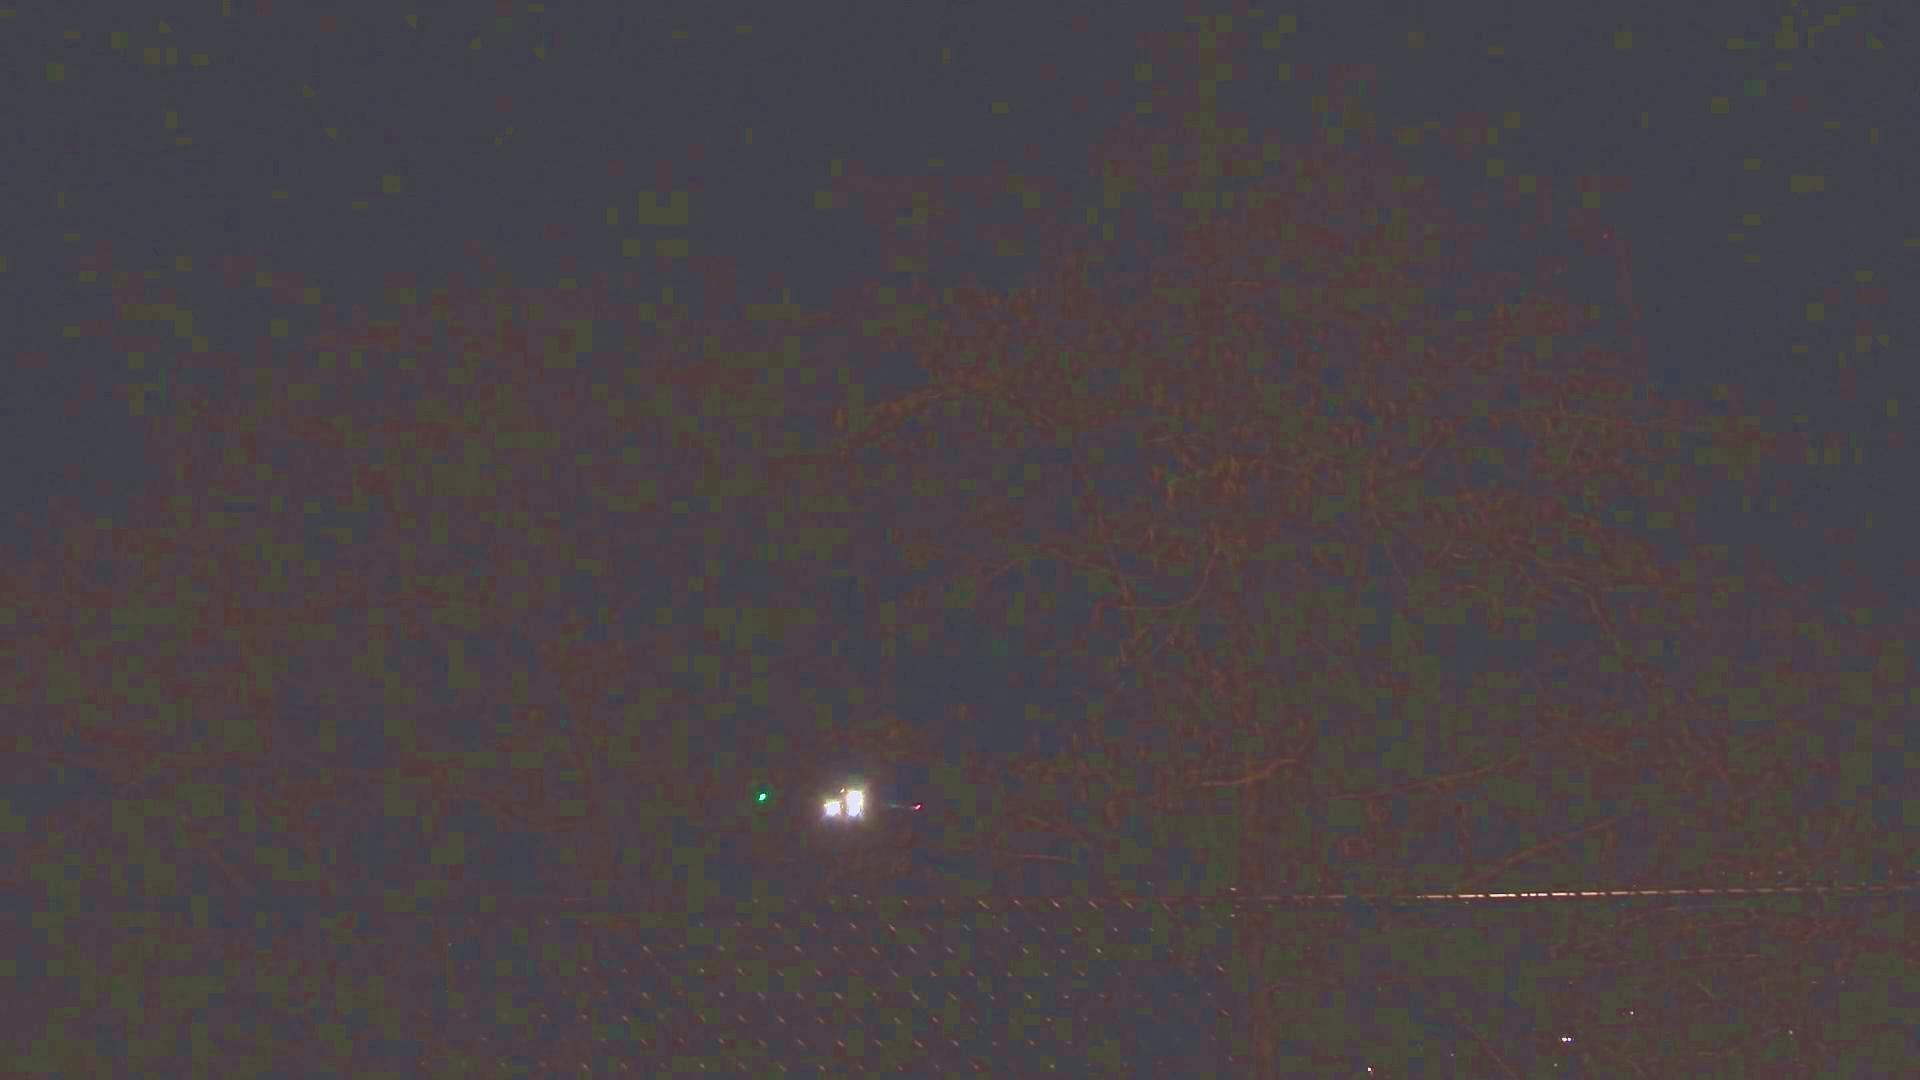Plane: (724, 767, 960, 831)
